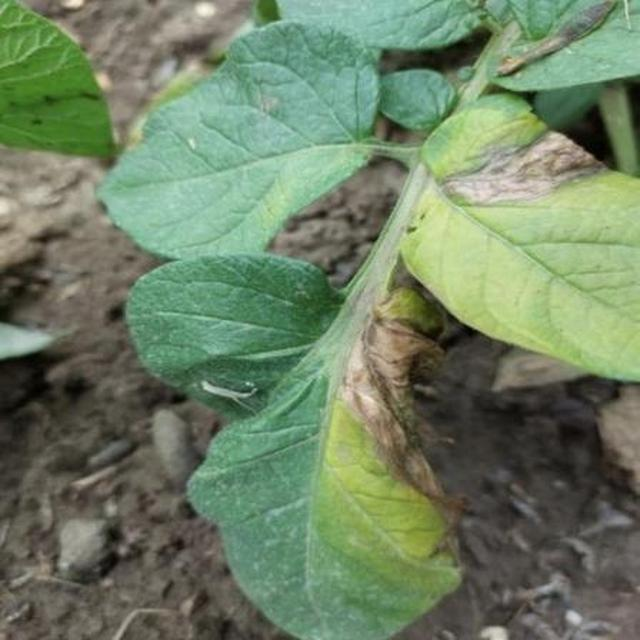Early Blight Leaf: (335, 344, 640, 638)
